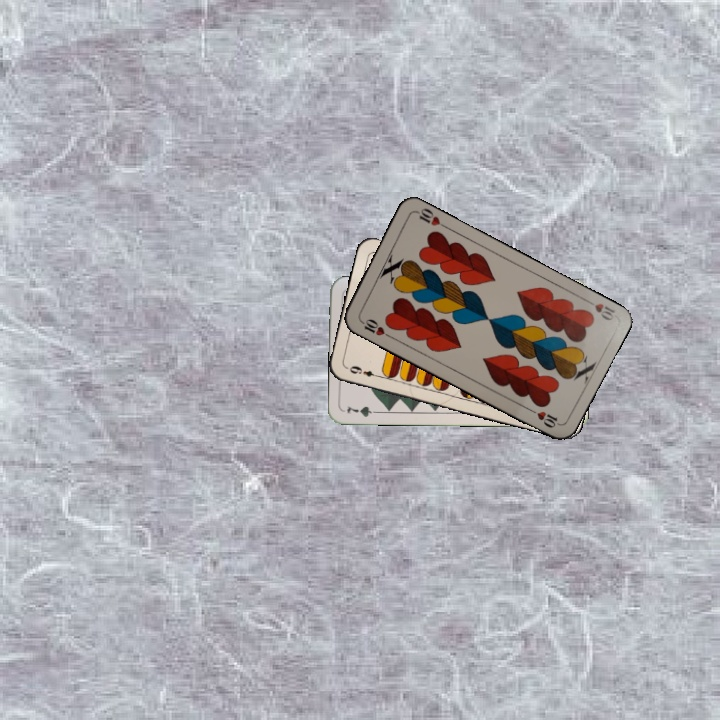E9: (343, 362, 383, 380)
G7: (343, 402, 383, 420)
H10: (580, 295, 617, 323), (356, 314, 393, 340)
